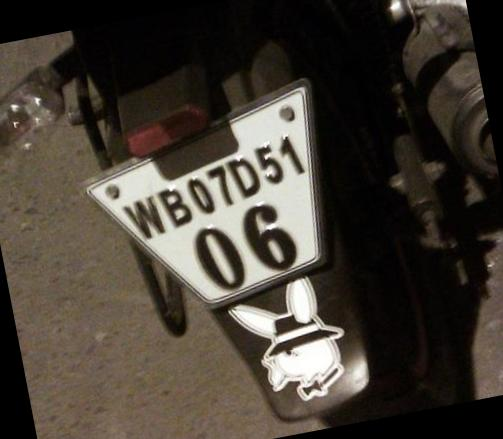plate: (79, 112, 372, 312)
